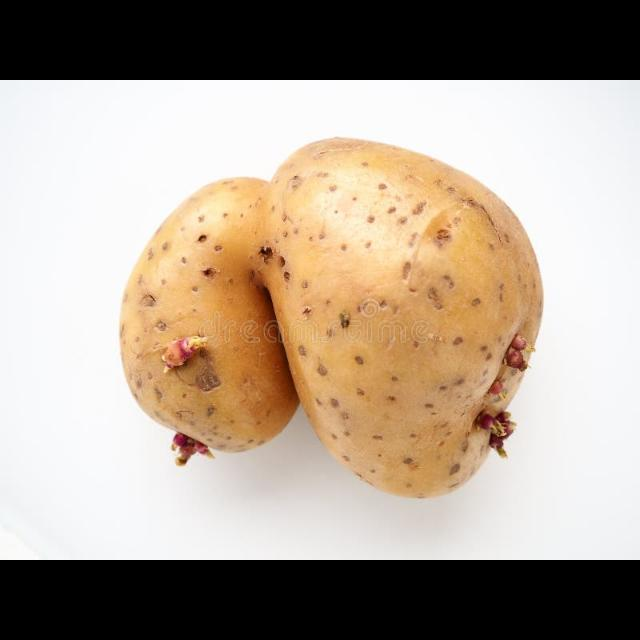Sprouted potato: (250, 130, 552, 504), (110, 181, 316, 473)
